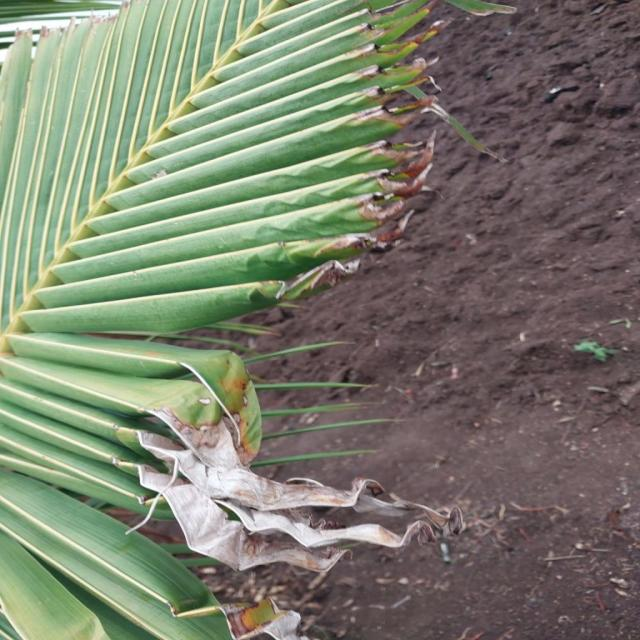leaf rot: (230, 8, 460, 324), (110, 398, 449, 588)
